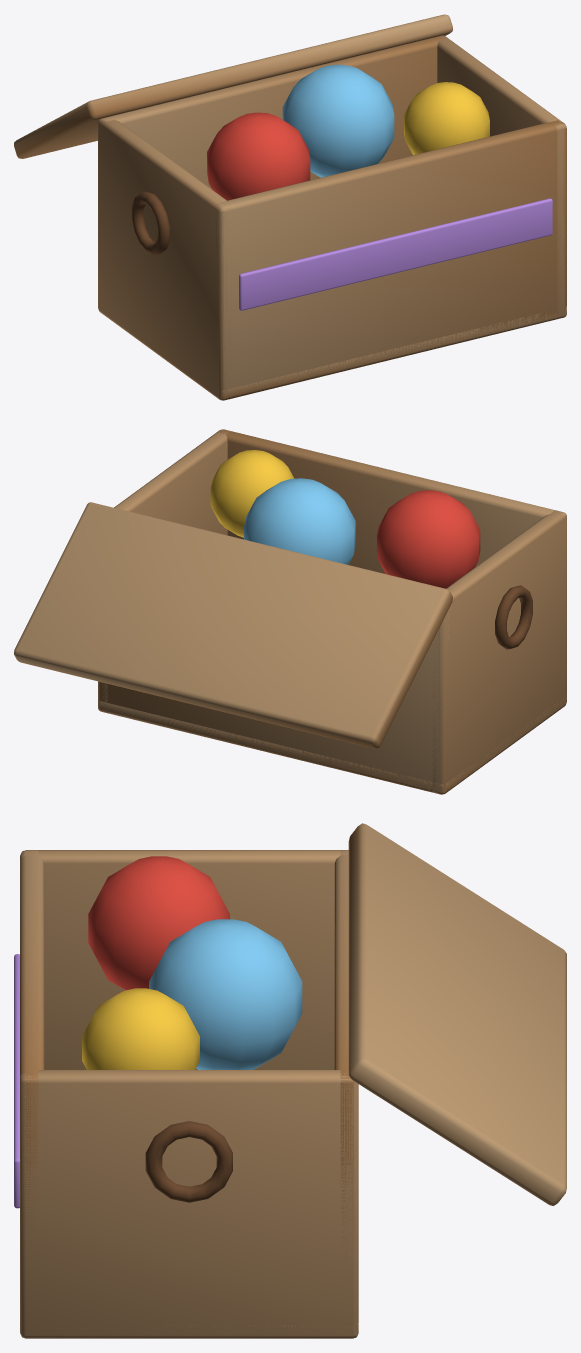
The model's file is spielkiste.glb.
3 views of the same model, one above another, from view 1: azimuth 30°, elevation 25°; view 2: azimuth 150°, elevation 25°; view 3: azimuth 270°, elevation 25° (orthographic). The views are drawn at different scales.
Visible parts, largest first — view 1: spielkiste-matt, spielkiste-lack; view 2: spielkiste-matt, spielkiste-lack; view 3: spielkiste-matt, spielkiste-lack.
Part boxes in pixels (box(x1,y1,x2,y2)): spielkiste-matt: box(14, 14, 566, 400); spielkiste-lack: box(207, 64, 552, 310); spielkiste-matt: box(14, 429, 566, 794); spielkiste-lack: box(210, 450, 480, 588); spielkiste-matt: box(20, 823, 566, 1338); spielkiste-lack: box(14, 856, 302, 1208).
Size of the model in its own units: 0.968 by 0.57 by 0.9142.
